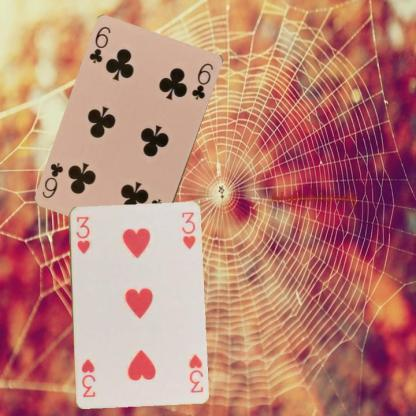3h: (186, 351, 204, 394), (73, 214, 91, 255)
6c: (87, 24, 112, 65)
